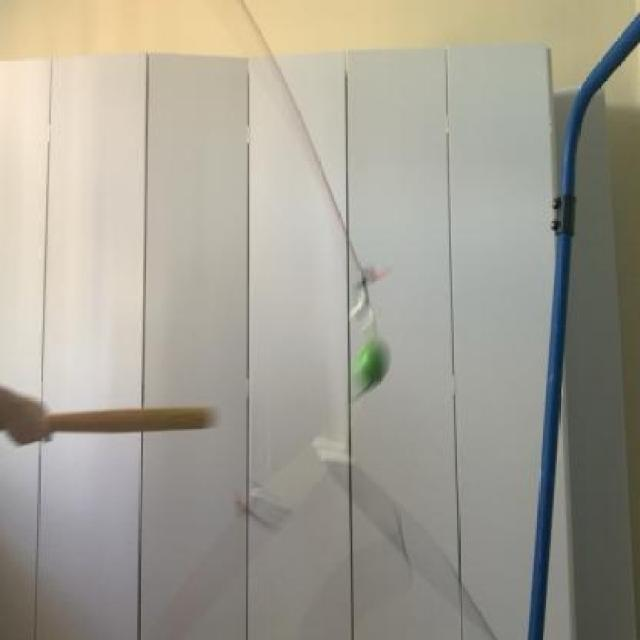baseball: (354, 327, 400, 395)
